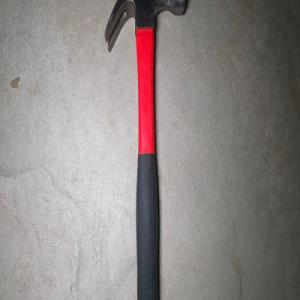Hammer: (103, 0, 186, 300)
